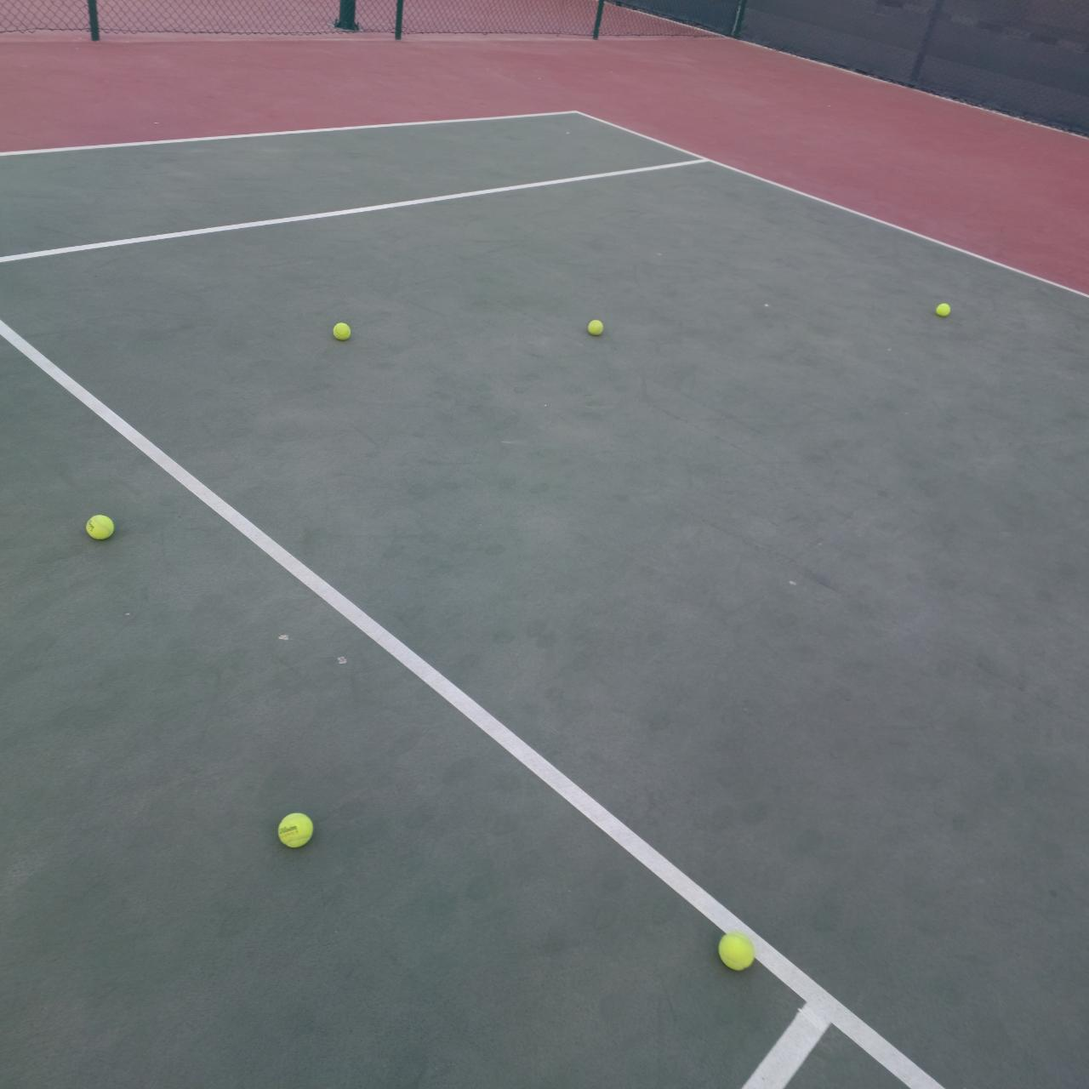tennis-ball: (716, 931, 755, 971), (276, 809, 314, 848), (84, 511, 115, 541), (331, 319, 351, 341), (585, 316, 604, 336), (933, 300, 951, 317)
